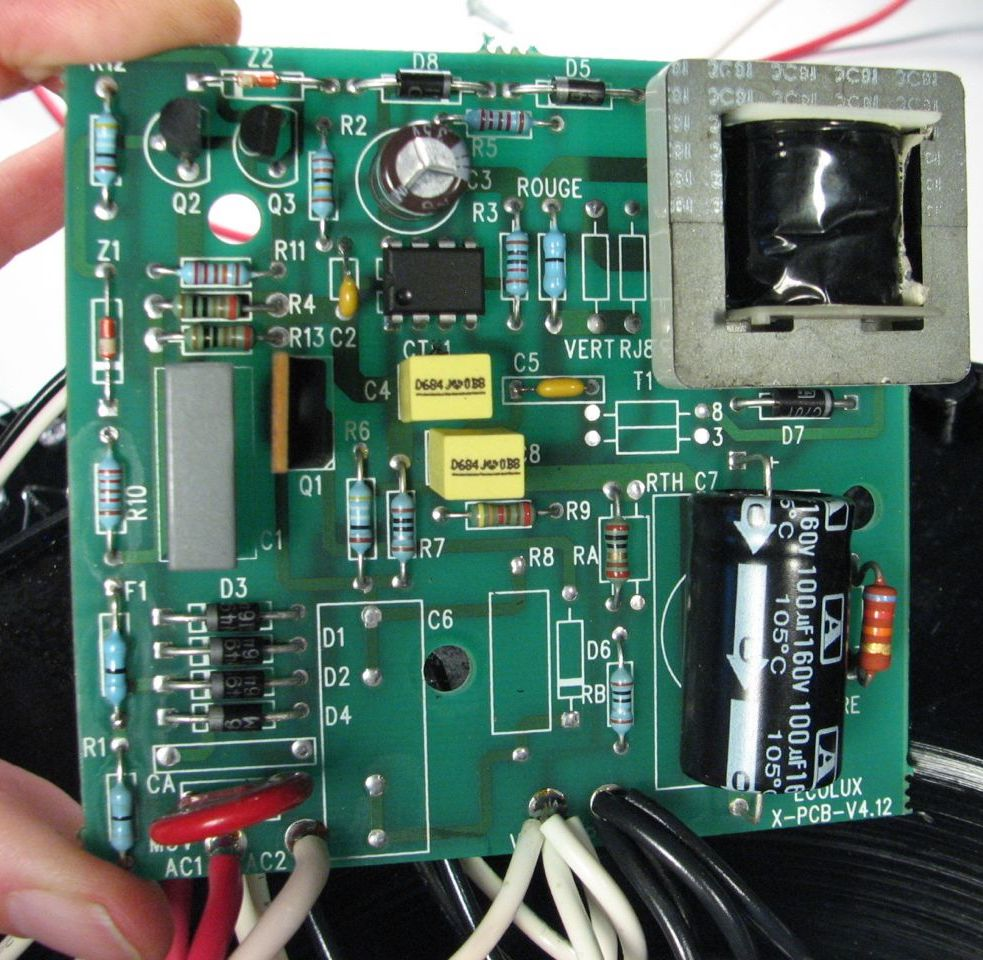Capacitor: (672, 486, 853, 806), (362, 122, 475, 227)
Diode: (198, 669, 278, 702), (200, 633, 271, 670), (761, 386, 839, 419), (197, 600, 274, 633), (200, 703, 277, 735), (546, 75, 609, 111), (385, 69, 456, 100), (227, 68, 292, 96), (94, 308, 124, 368)
Resistor: (855, 580, 900, 679), (98, 616, 136, 708), (344, 474, 377, 565), (172, 322, 264, 354), (175, 256, 258, 291), (599, 514, 635, 594), (500, 229, 536, 303), (88, 111, 123, 187), (539, 223, 572, 303), (167, 292, 253, 322), (96, 447, 125, 533), (464, 501, 540, 533), (462, 105, 539, 136), (307, 149, 339, 222), (389, 488, 420, 563), (108, 775, 136, 853), (610, 662, 638, 739)
